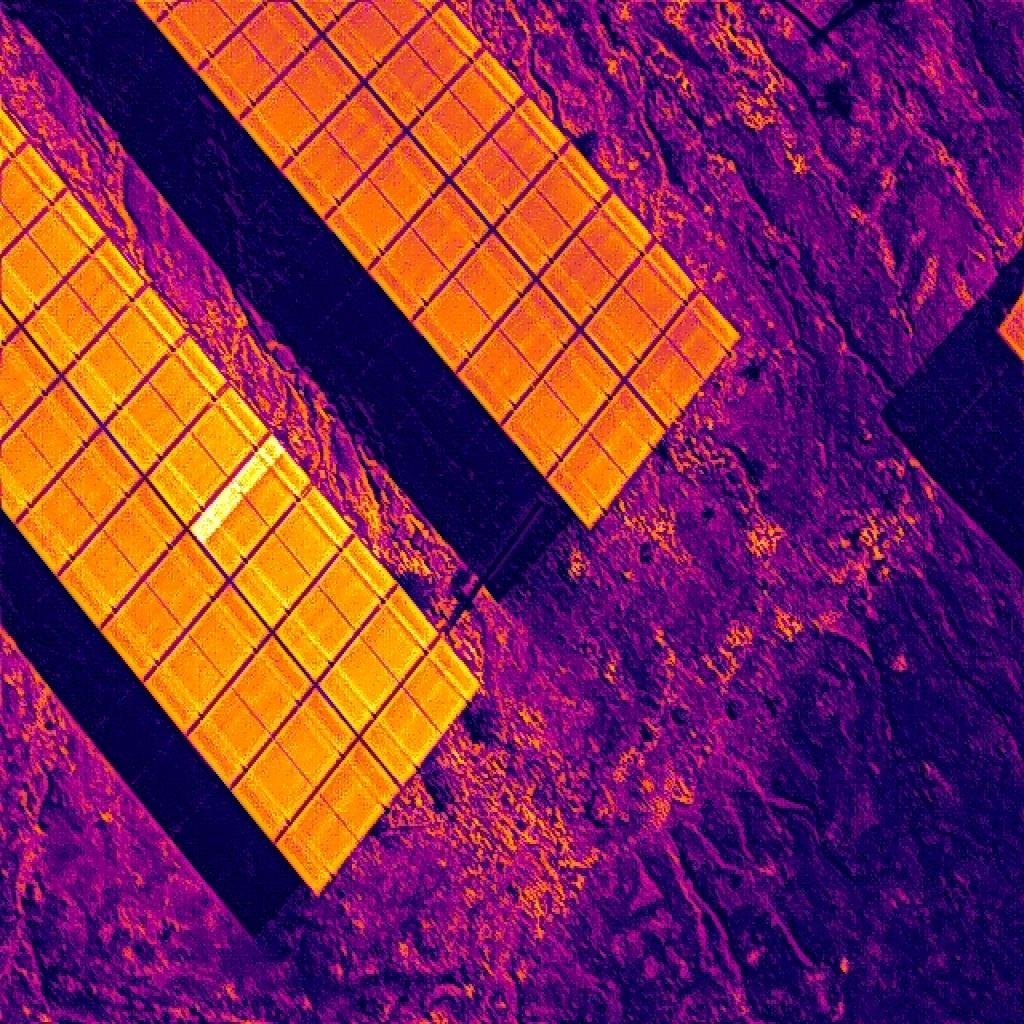panel: (189, 434, 312, 580), (504, 331, 625, 478)
